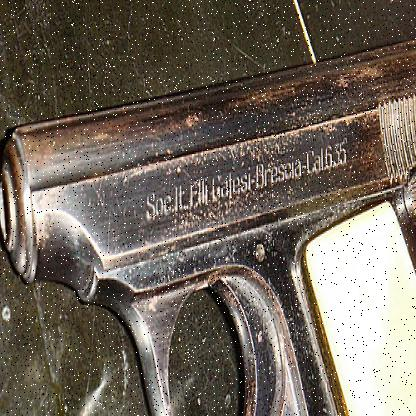pistol: (2, 41, 416, 414)
